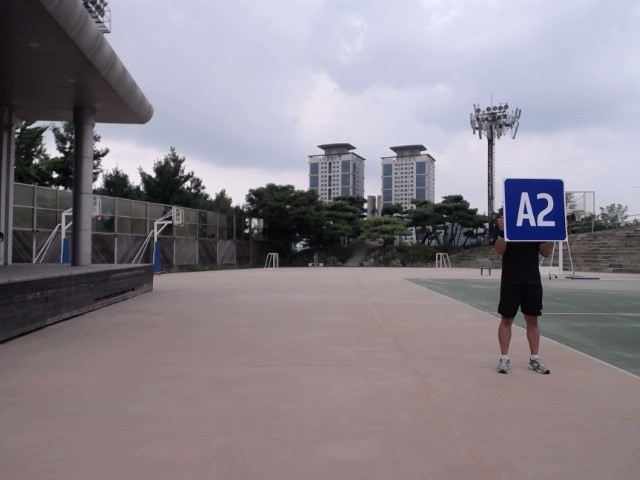delivery_a2: (503, 178, 568, 241)
